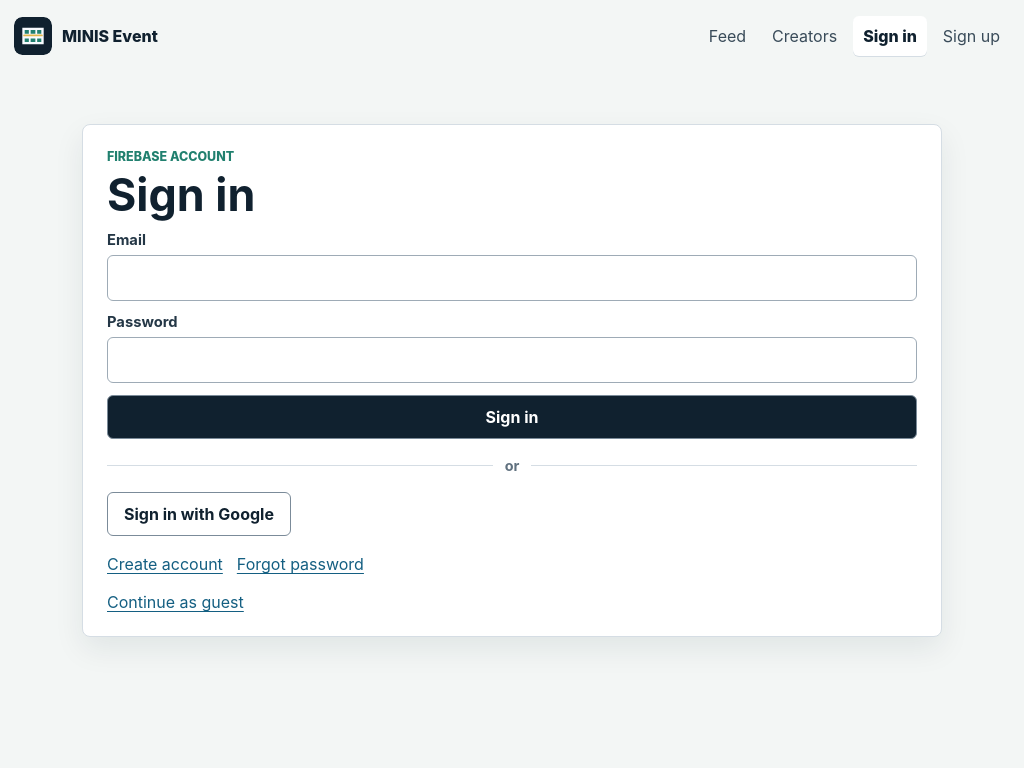
Scenario: AppRoutes authentication routes › shows safe Google popup cancellation feedback
The width and height of the screenshot is (1024, 768).
Click the button "Sign in with Google". click: (199,514)
box: left=107, top=492, right=291, bottom=536
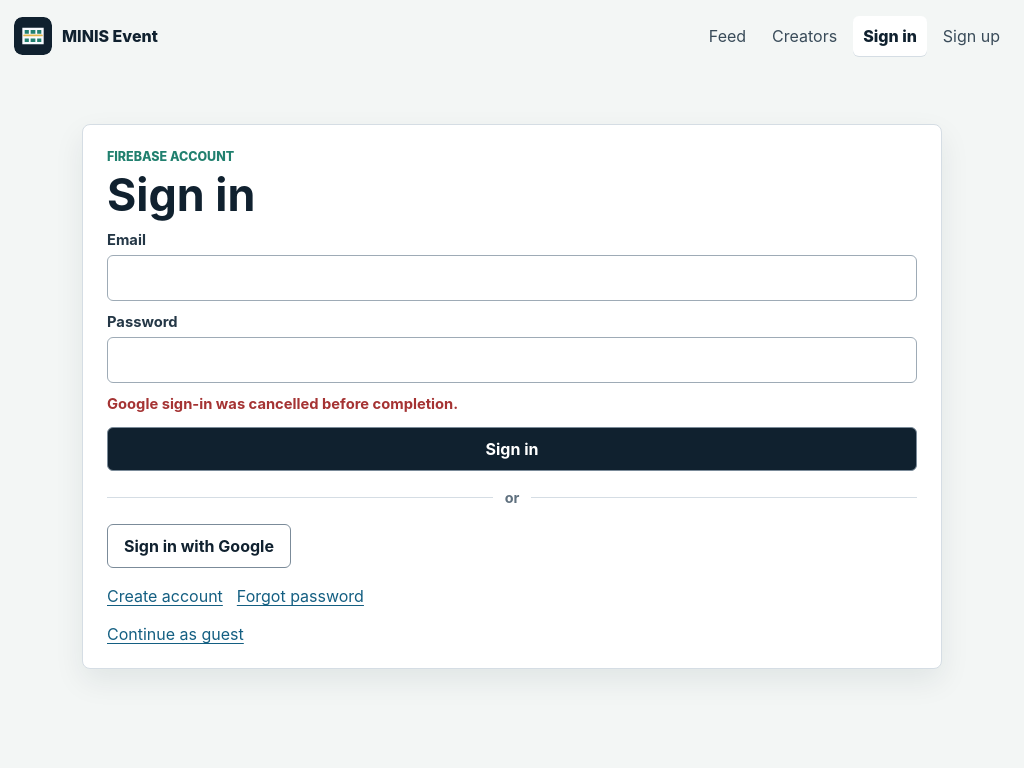
Result: the text "Google sign-in was cancelled before completion." is shown at left=107, top=395, right=458, bottom=413
